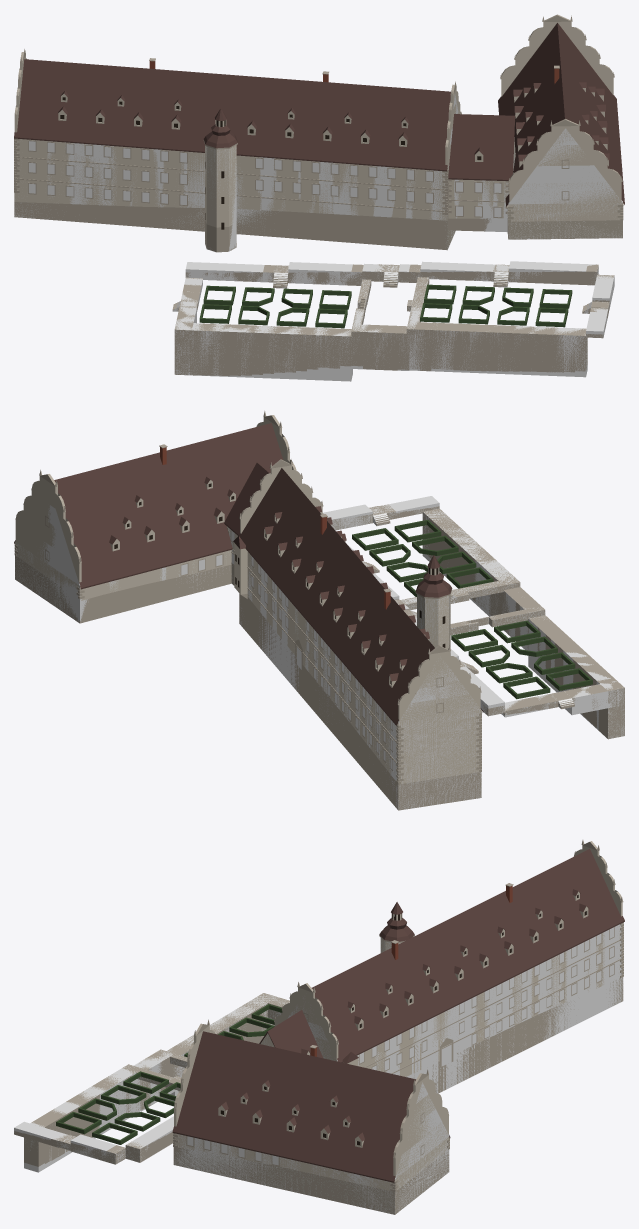
The model's file is schloss.glb.
The picture shows the model from 3 angles, top to bottom: view 1: azimuth 30°, elevation 25°; view 2: azimuth 150°, elevation 25°; view 3: azimuth 270°, elevation 25°; orthographic projection. The views are drawn at different scales.
Visible parts, largest first — view 1: schloss, COL_HULL_hauptbau, COL_HULL_ostfluegel, COL_HULL_terrace_wall_2, COL_HULL_terrace_wall_8, COL_HULL_verbindung, COL_HULL_terrace_wall_0, COL_HULL_terrace_wall_1, COL_HULL_terrace_wall_7, COL_HULL_terrace_wall_6, COL_HULL_tower, COL_HULL_terrace_wall_12 (+1 smaller); view 2: schloss, COL_HULL_hauptbau, COL_HULL_ostfluegel, COL_HULL_terrace_wall_8, COL_HULL_terrace_wall_2, COL_HULL_terrace_wall_9, COL_HULL_terrace_wall_12, COL_HULL_terrace_wall_0, COL_HULL_terrace_wall_11, COL_HULL_tower; view 3: schloss, COL_HULL_hauptbau, COL_HULL_ostfluegel, COL_HULL_terrace_wall_8, COL_HULL_terrace_wall_2, COL_HULL_terrace_wall_12, COL_HULL_terrace_wall_7, COL_HULL_terrace_wall_5, COL_HULL_terrace_wall_11.
Part boxes in pixels (x1=…): schloss: x1=14, y1=14, x2=624, y2=375; COL_HULL_hauptbau: x1=14, y1=94, x2=458, y2=249; COL_HULL_ostfluegel: x1=508, y1=128, x2=622, y2=239; COL_HULL_terrace_wall_2: x1=174, y1=323, x2=352, y2=381; COL_HULL_terrace_wall_8: x1=409, y1=323, x2=587, y2=377; COL_HULL_verbindung: x1=454, y1=148, x2=515, y2=232; COL_HULL_terrace_wall_0: x1=185, y1=262, x2=274, y2=282; COL_HULL_terrace_wall_1: x1=288, y1=262, x2=361, y2=285; COL_HULL_terrace_wall_7: x1=509, y1=261, x2=598, y2=285; COL_HULL_terrace_wall_6: x1=420, y1=261, x2=495, y2=281; COL_HULL_tower: x1=205, y1=145, x2=236, y2=251; COL_HULL_terrace_wall_12: x1=592, y1=275, x2=614, y2=308; schloss: x1=14, y1=411, x2=624, y2=810; COL_HULL_hauptbau: x1=239, y1=556, x2=481, y2=809; COL_HULL_ostfluegel: x1=15, y1=505, x2=230, y2=622; COL_HULL_terrace_wall_8: x1=422, y1=509, x2=518, y2=616; COL_HULL_terrace_wall_2: x1=528, y1=615, x2=624, y2=738; COL_HULL_terrace_wall_9: x1=564, y1=681, x2=624, y2=715; COL_HULL_terrace_wall_12: x1=323, y1=504, x2=372, y2=530; COL_HULL_terrace_wall_0: x1=460, y1=666, x2=504, y2=715; COL_HULL_terrace_wall_11: x1=379, y1=496, x2=439, y2=519; COL_HULL_tower: x1=417, y1=595, x2=450, y2=652; schloss: x1=14, y1=840, x2=624, y2=1214; COL_HULL_hauptbau: x1=287, y1=924, x2=623, y2=1093; COL_HULL_ostfluegel: x1=174, y1=1082, x2=449, y2=1214; COL_HULL_terrace_wall_8: x1=24, y1=1065, x2=141, y2=1172; COL_HULL_terrace_wall_2: x1=164, y1=993, x2=275, y2=1101; COL_HULL_terrace_wall_12: x1=70, y1=1134, x2=125, y2=1163; COL_HULL_terrace_wall_7: x1=125, y1=1116, x2=173, y2=1161; COL_HULL_terrace_wall_5: x1=134, y1=1050, x2=174, y2=1111; COL_HULL_terrace_wall_11: x1=14, y1=1121, x2=67, y2=1146.
Bounding box in the file's own units: 103 × 38.15 × 104.
